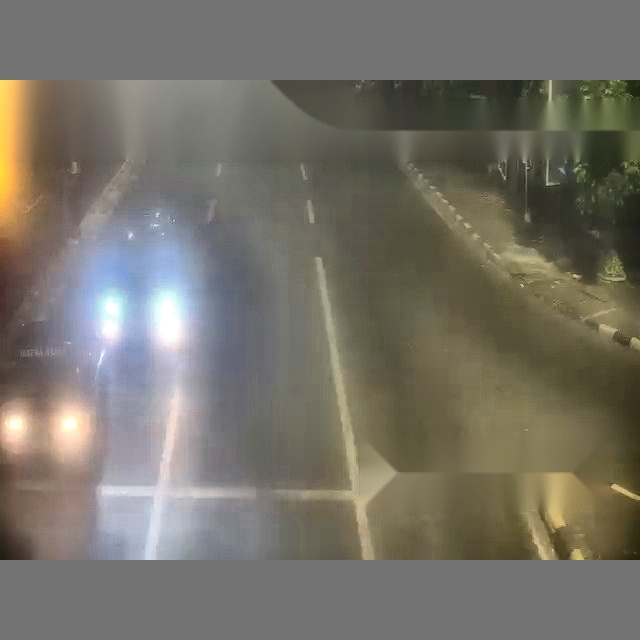Truk: (187, 49, 639, 557), (0, 80, 32, 240)
